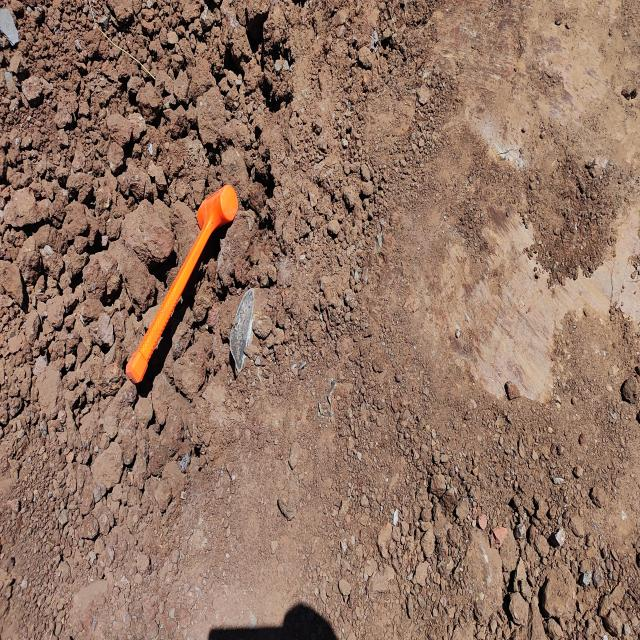Orange_hammer: (125, 182, 238, 386)
